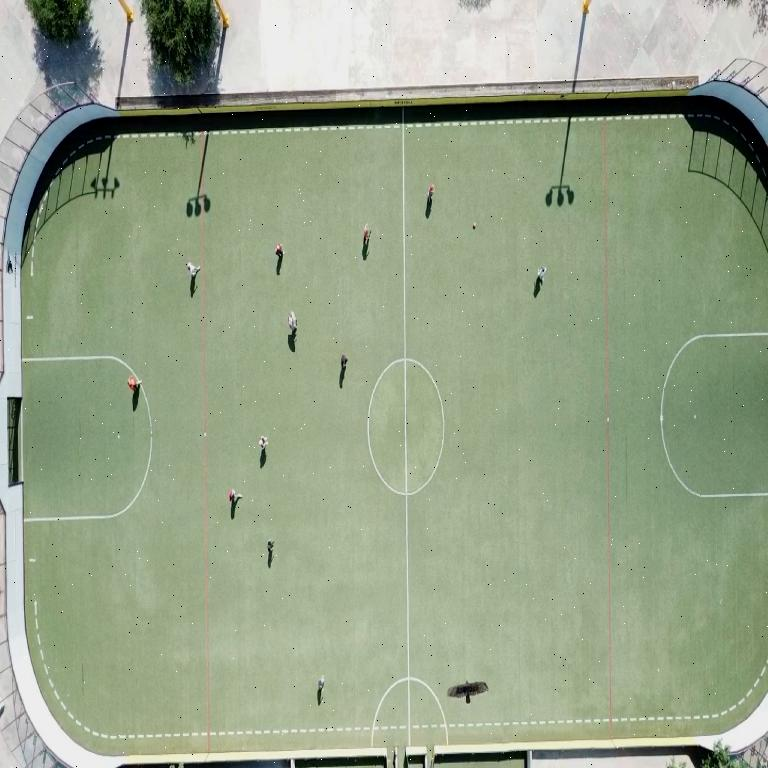AC: (661, 331, 768, 497), (29, 389, 153, 521), (23, 355, 133, 372)
B: (473, 222, 477, 228)
MC: (402, 108, 410, 745)
P: (186, 262, 200, 279), (127, 375, 141, 392), (287, 311, 296, 332), (228, 489, 241, 503), (258, 436, 267, 451), (537, 267, 545, 283), (363, 224, 369, 245), (427, 184, 434, 201), (275, 243, 282, 258), (317, 676, 323, 693), (267, 538, 273, 554), (340, 355, 347, 367)
